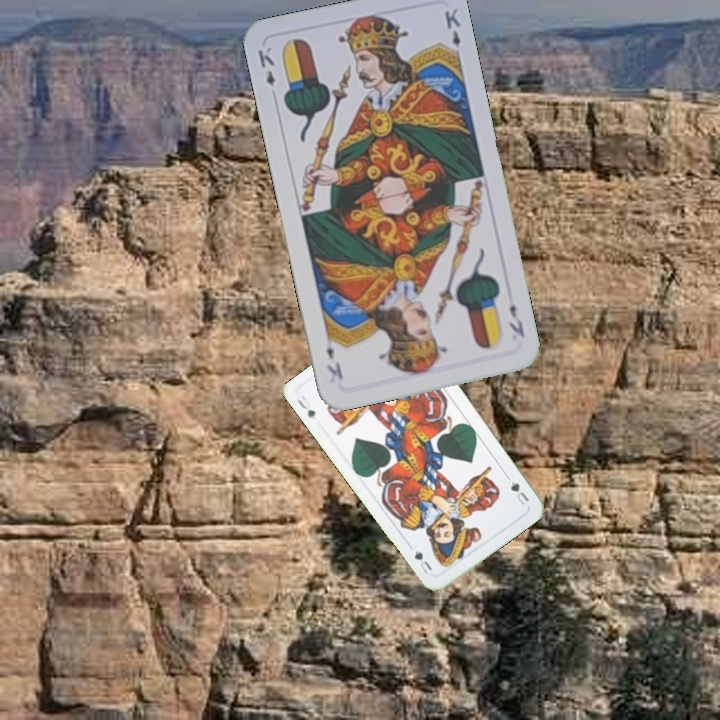EK: (253, 42, 278, 89), (505, 299, 528, 340)
GU: (506, 477, 532, 508), (293, 391, 318, 421)
